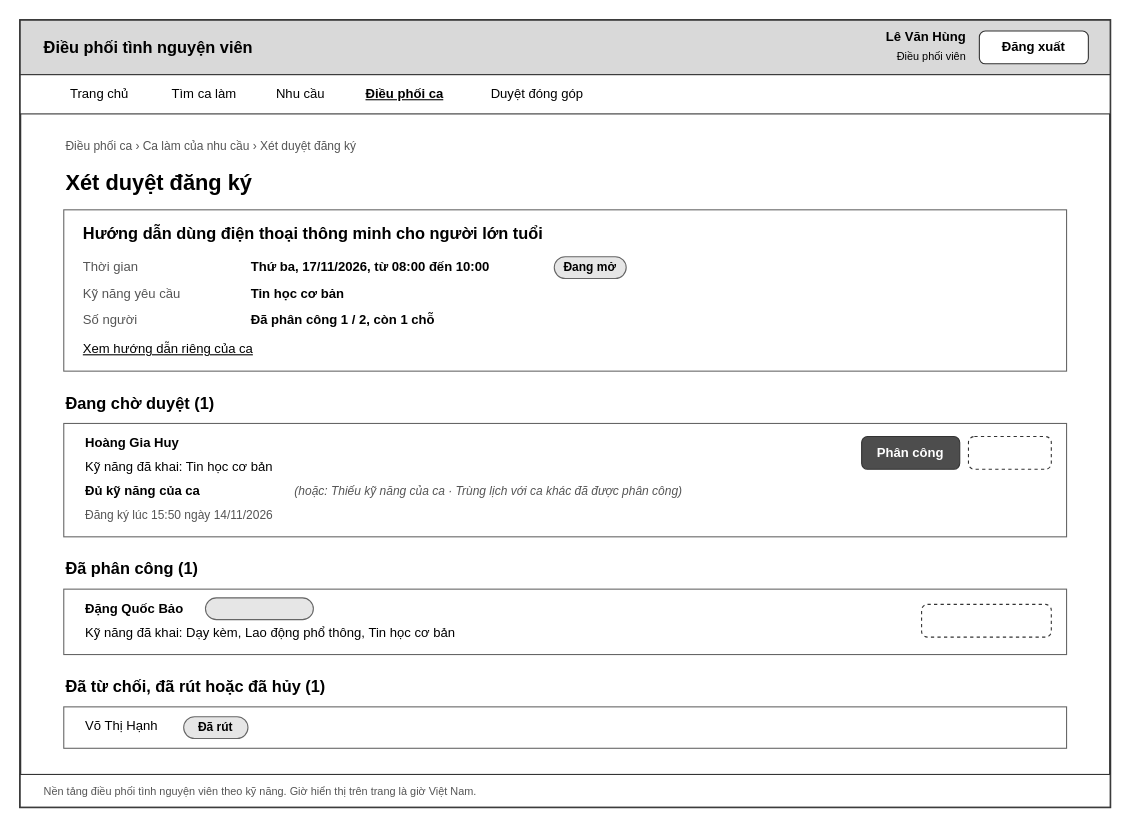
The diagram is 1129 pixels wide and 826 high, and some of its shapes have lost their labels. The shapes that lost their labels are listed below. From the top down, each one's centre as x and y in pixels, then its label:
(1009,452): Từ chối
(258,608): Đã phân công
(986,620): Hủy phân công
